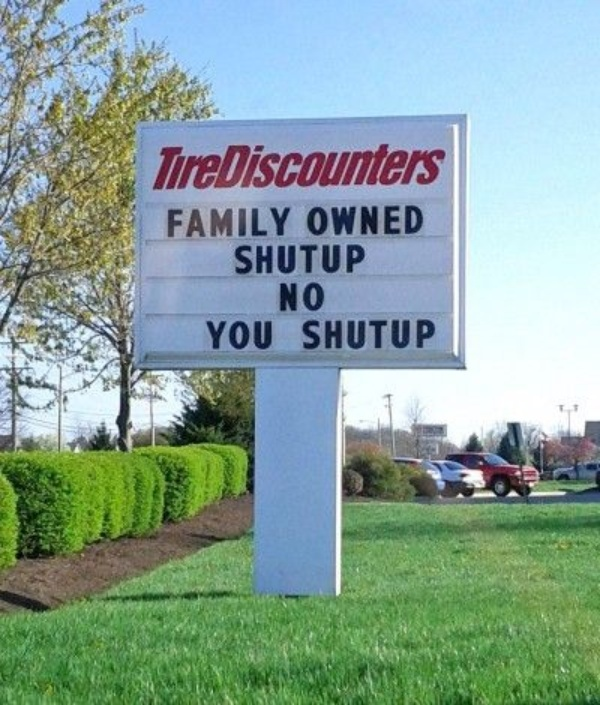text: (161, 140, 176, 190), (177, 140, 192, 190), (193, 140, 208, 190), (209, 140, 224, 190), (225, 140, 240, 190), (241, 140, 256, 190), (257, 140, 272, 190), (273, 140, 288, 190), (289, 140, 304, 190), (305, 140, 320, 190), (321, 140, 336, 190), (337, 140, 352, 190), (353, 140, 368, 190), (369, 140, 384, 190), (385, 140, 400, 190), (401, 140, 416, 190), (417, 140, 432, 190), (433, 140, 448, 190), (305, 203, 320, 236), (321, 203, 336, 236), (337, 203, 352, 236), (353, 203, 368, 236), (369, 203, 384, 236), (385, 203, 400, 236), (401, 203, 416, 236), (289, 280, 304, 313), (305, 280, 320, 313), (177, 206, 192, 238), (193, 206, 208, 238), (209, 206, 224, 238), (225, 206, 240, 238), (241, 206, 256, 238), (257, 206, 272, 238), (273, 206, 288, 238), (241, 244, 256, 275), (257, 244, 272, 275), (273, 244, 288, 275), (289, 244, 304, 275), (305, 244, 320, 275), (321, 244, 336, 275), (337, 244, 352, 275), (305, 319, 320, 350), (321, 319, 336, 350), (337, 319, 352, 350), (353, 319, 368, 350), (369, 319, 384, 350), (385, 319, 400, 350), (401, 319, 416, 350), (417, 319, 432, 350), (209, 320, 224, 350), (225, 320, 240, 350), (241, 320, 256, 350), (257, 320, 272, 350), (353, 244, 367, 275), (278, 280, 288, 313), (167, 206, 176, 238), (417, 203, 424, 236), (233, 244, 240, 275), (321, 280, 325, 313), (449, 140, 451, 190), (301, 319, 304, 350), (433, 319, 436, 350), (206, 320, 208, 350), (289, 206, 290, 238), (273, 320, 274, 350)
